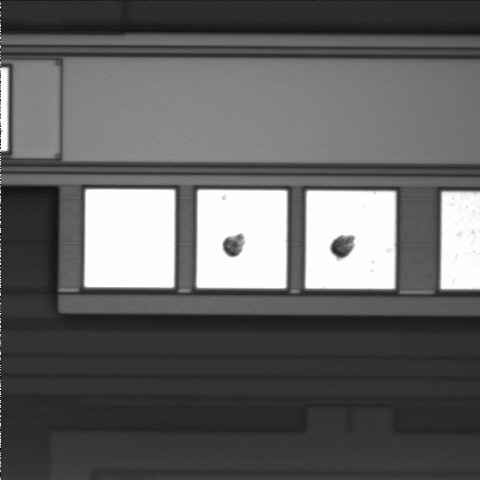pad: (85, 189, 175, 288), (197, 190, 287, 288), (306, 191, 396, 289)
